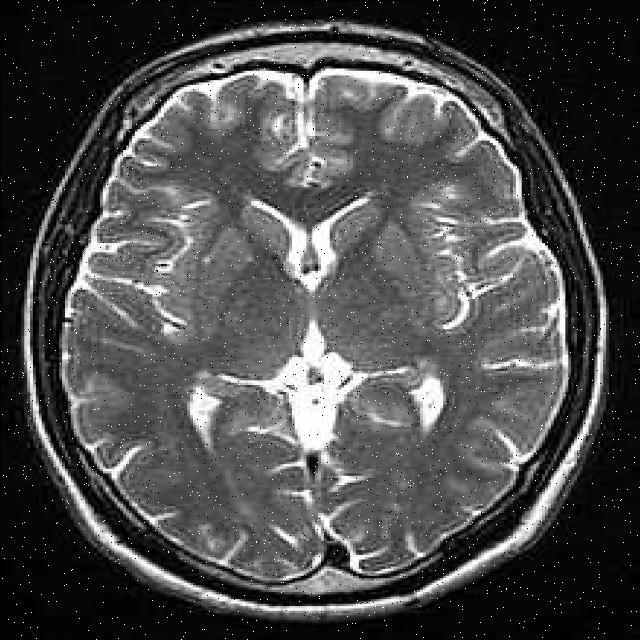No_Tumor: (25, 23, 604, 619)
